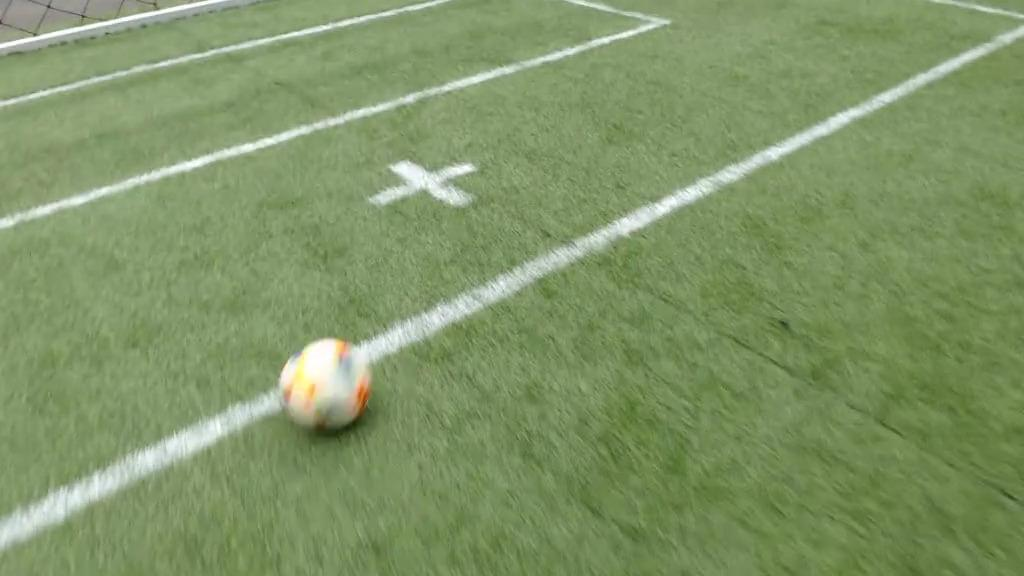ball: (269, 331, 380, 452)
